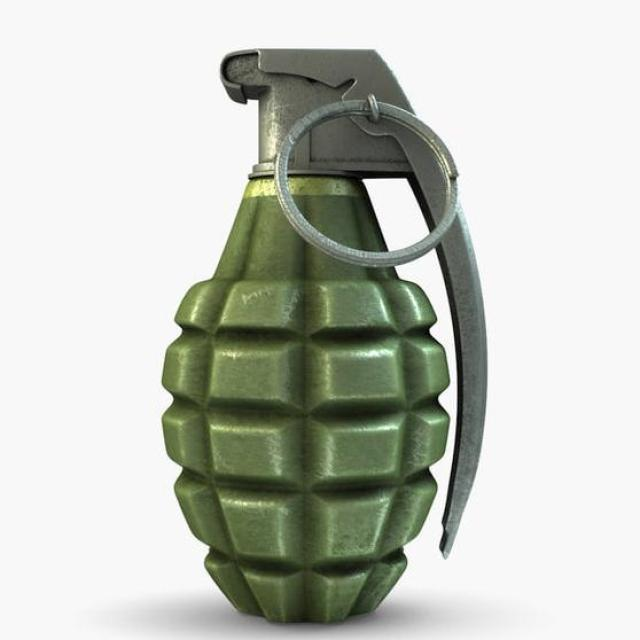grenade: (164, 48, 489, 627)
